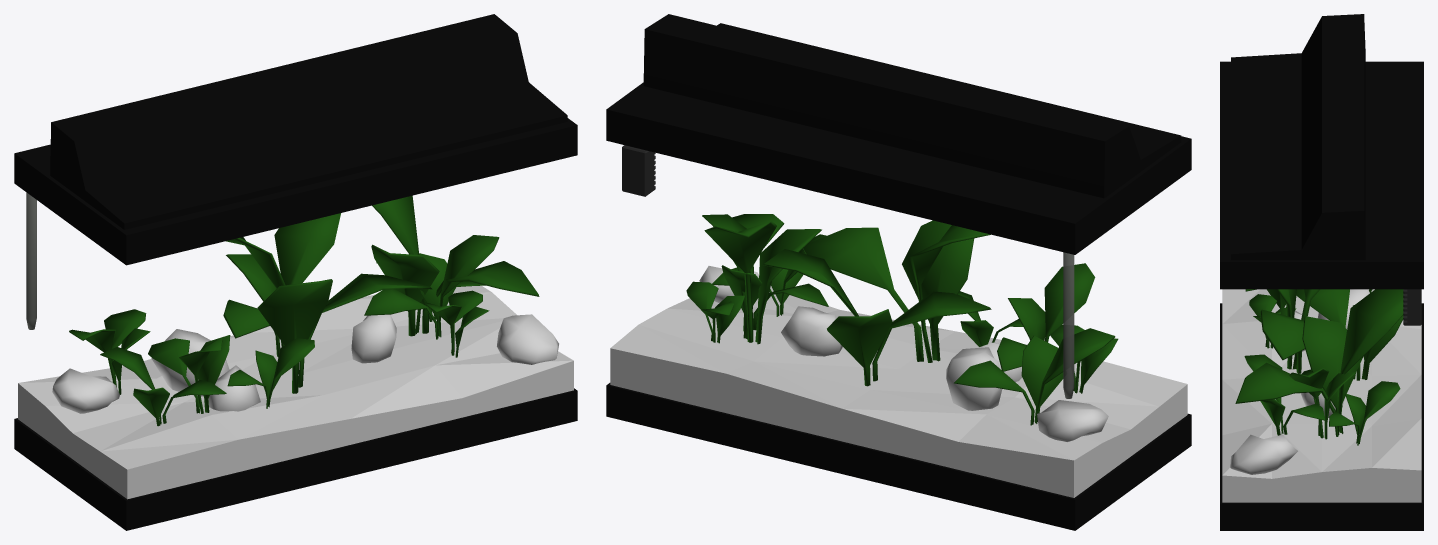
Rendered from aquarium.obj.
3 views of the same model, side by side, from view 1: azimuth 30°, elevation 25°; view 2: azimuth 150°, elevation 25°; view 3: azimuth 270°, elevation 25° (orthographic). The views are drawn at different scales.
Visible parts, largest first — view 1: aquarium-top_Cube.002, aquarium-glass.001_Cube.003, aquarium-base_Cube.001, Plane.032, Plane.031, Plane.033, Plane, Plane.005, Cube.002_Cube.006, Plane.004, Cube.003_Cube.007, Plane.006 (+6 smaller); view 2: aquarium-top_Cube.002, aquarium-glass.001_Cube.003, aquarium-base_Cube.001, Plane.032, Plane.033, Plane.031, Plane.006, Plane.005, Cube.003_Cube.007, Cube_Cube.004, Cube.001_Cube.005, Plane (+6 smaller); view 3: aquarium-top_Cube.002, aquarium-glass.001_Cube.003, Plane.031, aquarium-base_Cube.001, Plane.032, Cube.002_Cube.006, Plane.033, Plane.002, Plane.001, Plane, filter-2_Cube.010, Plane.003 (+2 smaller).
Part boxes in pixels (x1=…): aquarium-top_Cube.002: x1=14, y1=14, x2=577, y2=265; aquarium-glass.001_Cube.003: x1=18, y1=285, x2=573, y2=499; aquarium-base_Cube.001: x1=14, y1=388, x2=577, y2=530; Plane.032: x1=226, y1=237, x2=432, y2=393; Plane.031: x1=371, y1=195, x2=539, y2=336; Plane.033: x1=223, y1=213, x2=340, y2=357; Plane: x1=364, y1=235, x2=499, y2=339; Plane.005: x1=148, y1=335, x2=230, y2=413; Cube.002_Cube.006: x1=497, y1=314, x2=558, y2=364; Plane.004: x1=100, y1=347, x2=226, y2=426; Cube.003_Cube.007: x1=52, y1=368, x2=119, y2=413; Plane.006: x1=69, y1=309, x2=150, y2=394; aquarium-top_Cube.002: x1=606, y1=14, x2=1191, y2=254; aquarium-glass.001_Cube.003: x1=610, y1=287, x2=1187, y2=497; aquarium-base_Cube.001: x1=606, y1=383, x2=1191, y2=530; Plane.032: x1=803, y1=220, x2=990, y2=362; Plane.033: x1=763, y1=249, x2=991, y2=386; Plane.031: x1=704, y1=214, x2=821, y2=344; Plane.006: x1=954, y1=328, x2=1115, y2=425; Plane.005: x1=997, y1=263, x2=1095, y2=371; Cube.003_Cube.007: x1=1037, y1=400, x2=1108, y2=441; Cube_Cube.004: x1=781, y1=306, x2=842, y2=356; Cube.001_Cube.005: x1=946, y1=347, x2=1002, y2=410; Plane: x1=702, y1=214, x2=828, y2=331; aquarium-top_Cube.002: x1=1220, y1=14, x2=1423, y2=289; aquarium-glass.001_Cube.003: x1=1222, y1=289, x2=1421, y2=502; Plane.031: x1=1235, y1=289, x2=1403, y2=436; aquarium-base_Cube.001: x1=1220, y1=303, x2=1423, y2=530; Plane.032: x1=1260, y1=289, x2=1319, y2=373; Cube.002_Cube.006: x1=1230, y1=434, x2=1297, y2=474; Plane.033: x1=1295, y1=289, x2=1403, y2=380; Plane.002: x1=1329, y1=381, x2=1400, y2=445; Plane.001: x1=1244, y1=354, x2=1325, y2=435; Plane: x1=1289, y1=368, x2=1356, y2=439; filter-2_Cube.010: x1=1403, y1=289, x2=1421, y2=325; Plane.003: x1=1249, y1=294, x2=1296, y2=348.
Bounding box in the file's own units: 15.95 × 11.82 × 6.86.
